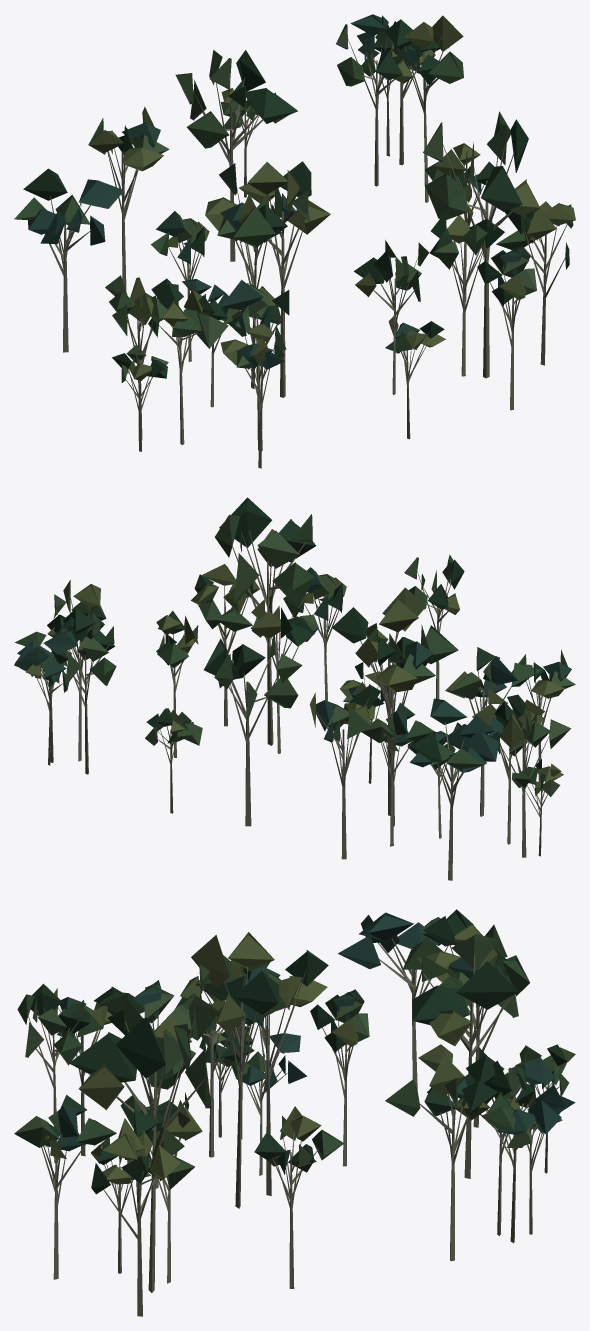
Rendered from forest_19_21.dae.
The picture shows the model from 3 angles, top to bottom: view 1: azimuth 30°, elevation 25°; view 2: azimuth 150°, elevation 25°; view 3: azimuth 270°, elevation 25°; orthographic projection. The views are drawn at different scales.
Parts seen in each view (by area): view 1: Node; view 2: Node; view 3: Node.
Part boxes in pixels (x1,y1,x2,y2): Node: [14, 14, 575, 468]; Node: [14, 497, 575, 880]; Node: [14, 909, 575, 1316].
Size of the model in its own units: 10.91 by 10.03 by 6.36.
